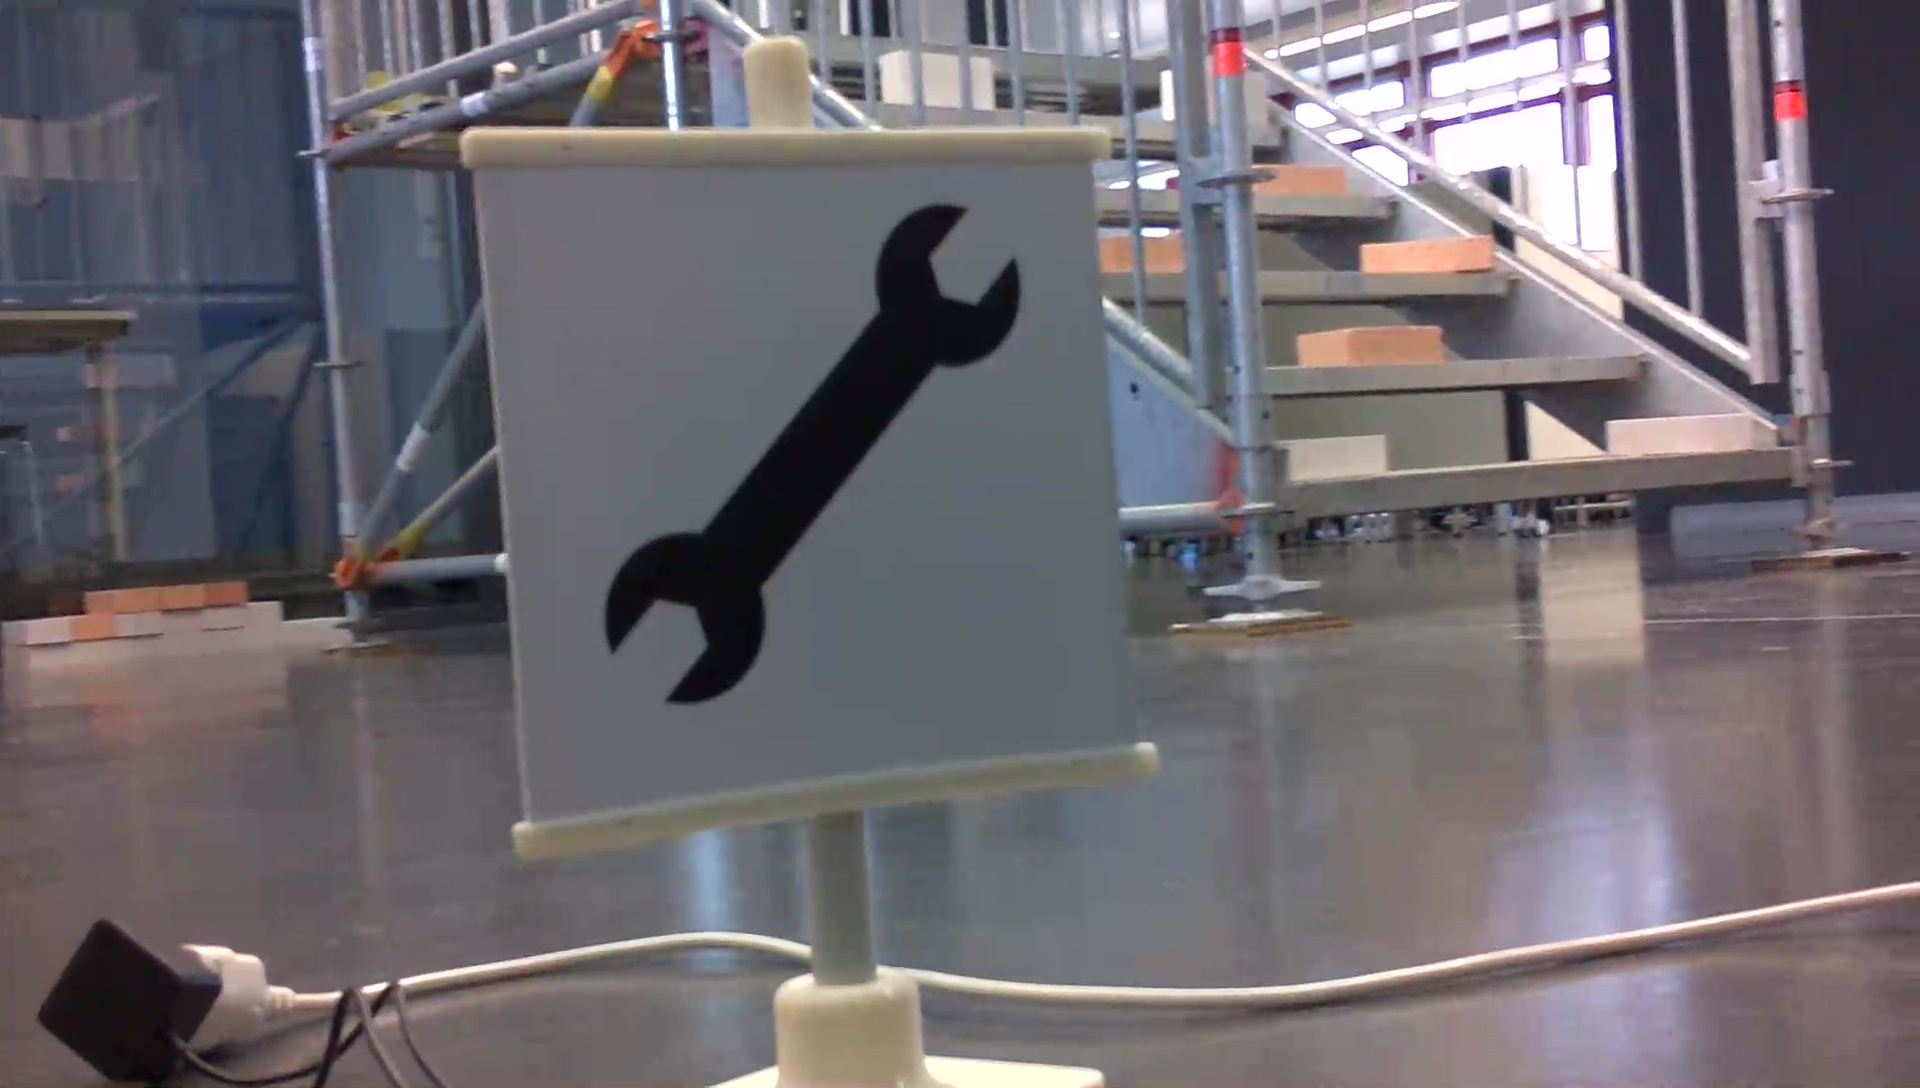brick: (1607, 415, 1749, 450), (1298, 328, 1437, 363), (1284, 438, 1385, 477), (1362, 239, 1493, 268), (1255, 162, 1342, 198), (1242, 70, 1265, 123)
edge: (1280, 448, 1792, 514), (1261, 351, 1652, 390), (1253, 266, 1523, 295)
wrench: (591, 195, 1030, 719)
